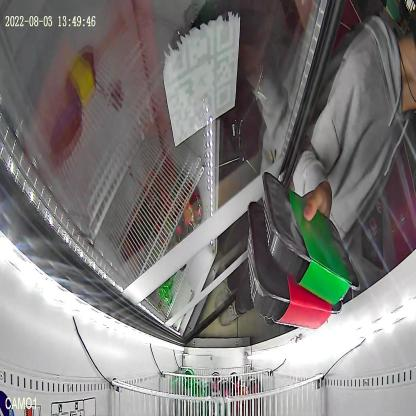green: (262, 172, 360, 306)
red: (247, 200, 343, 330)
